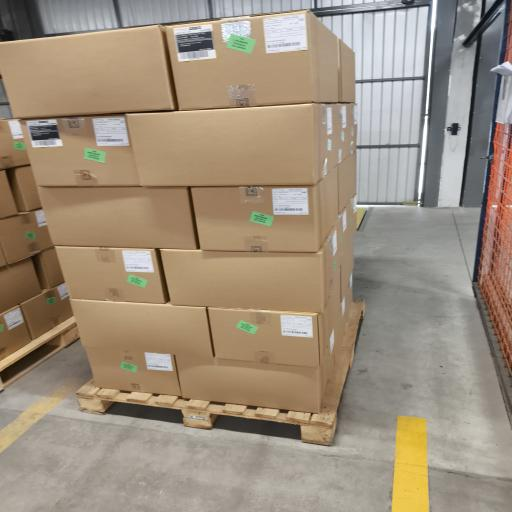pallet: (77, 301, 364, 445), (0, 317, 79, 390)
